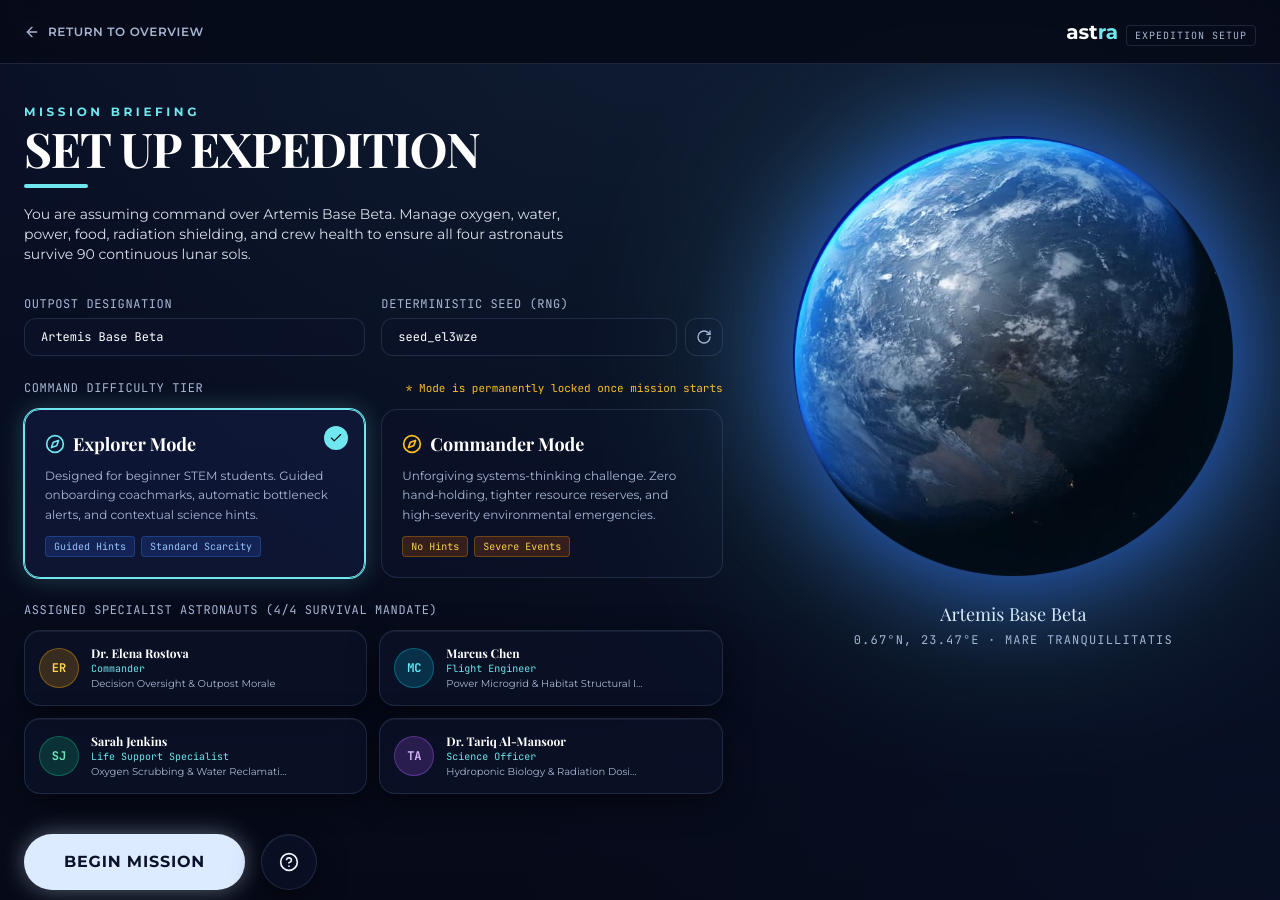
Test: MissionSetup (SCR-02 Detail State) › opens How to Play quick-start modal when circular ? button is clicked
Click the button titled "How to Play Quick Start" at (289, 862), box [261,834,317,890]
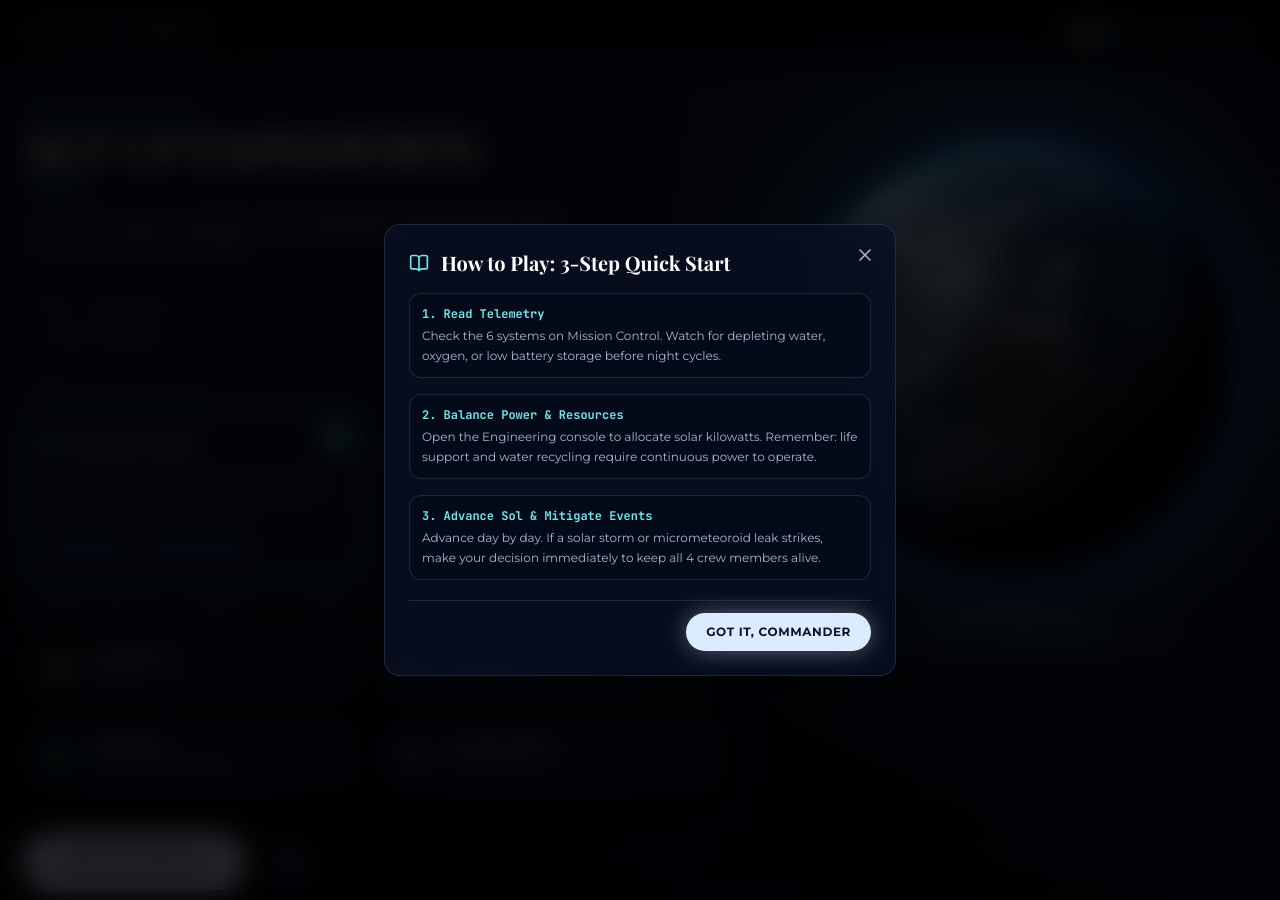
Expected: the heading "How to Play: 3-Step Quick Start" is shown, [441,249,731,277]
